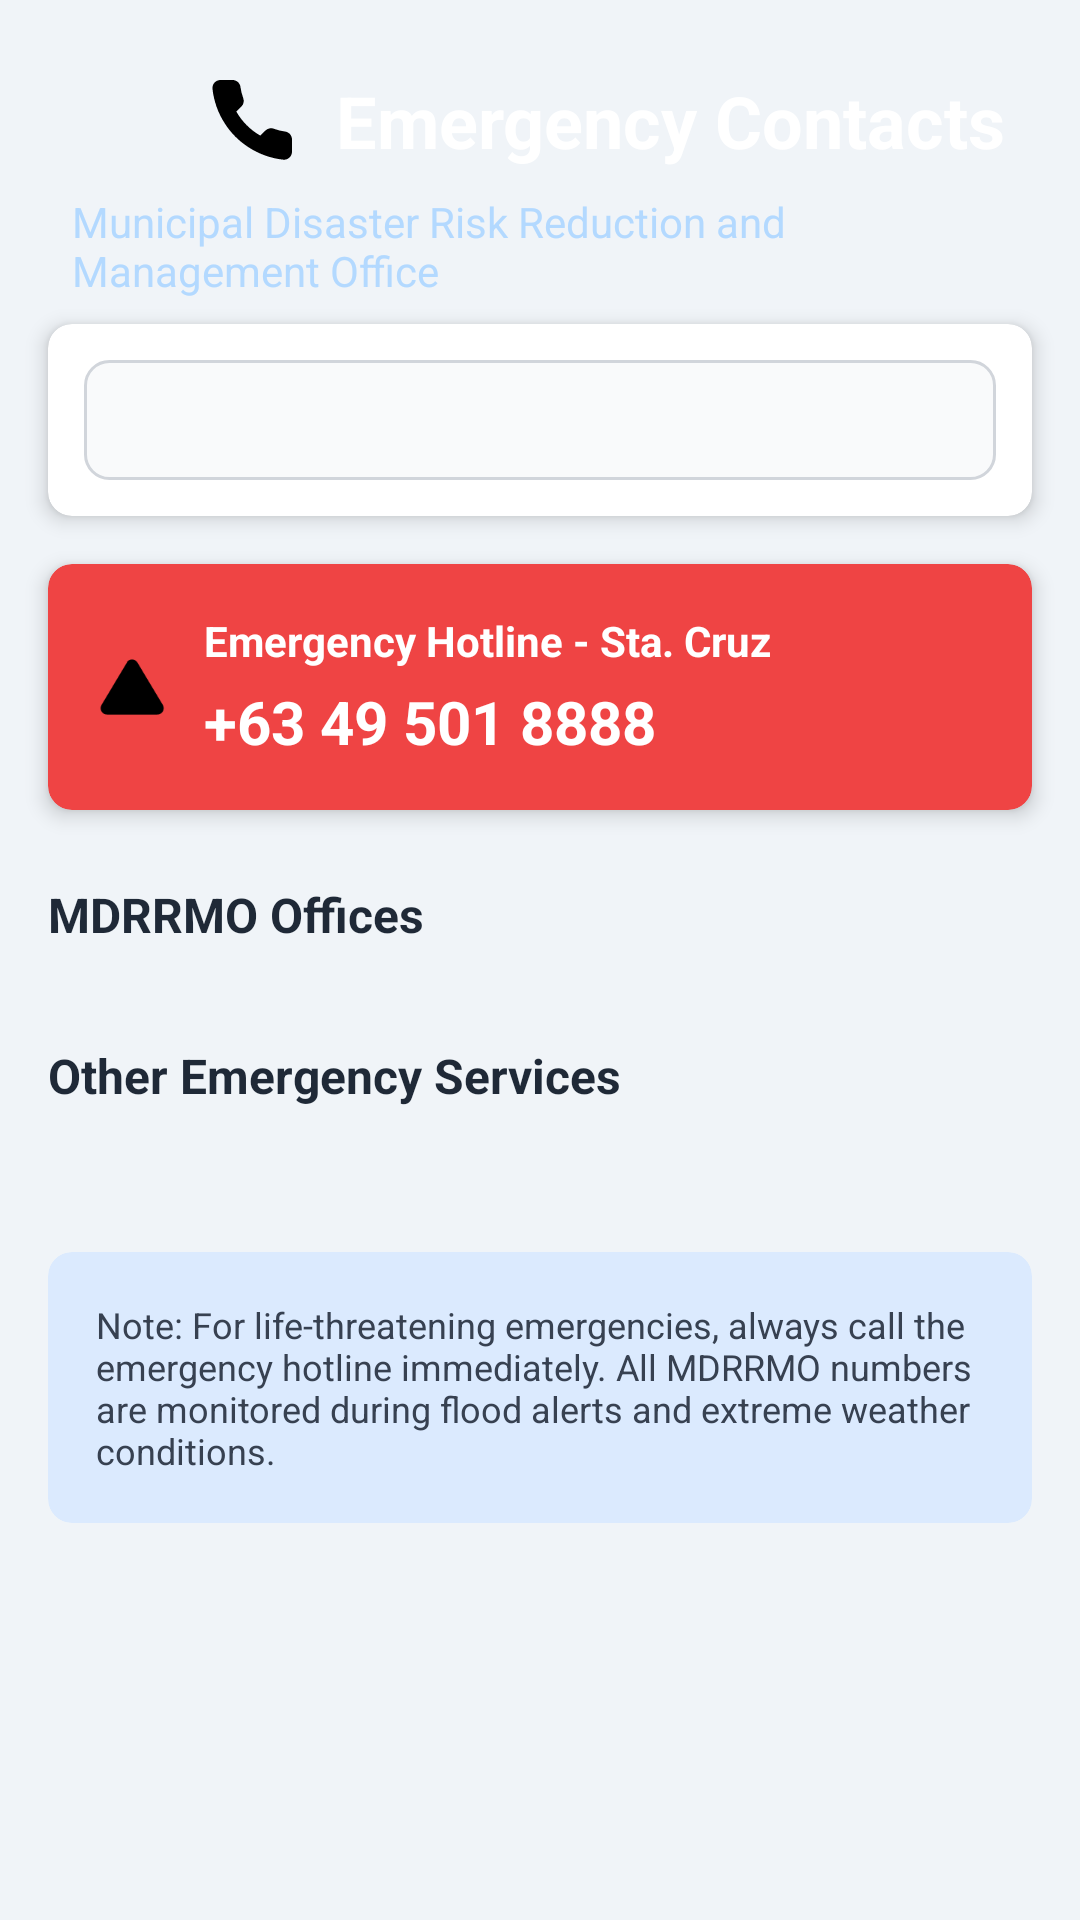

Named icons in this screenshot (1080*1920) and their bounding boxes, rect(x1, y1, x2, y2):
alert: rect(100, 659, 164, 715)
phone: rect(212, 80, 292, 160)
